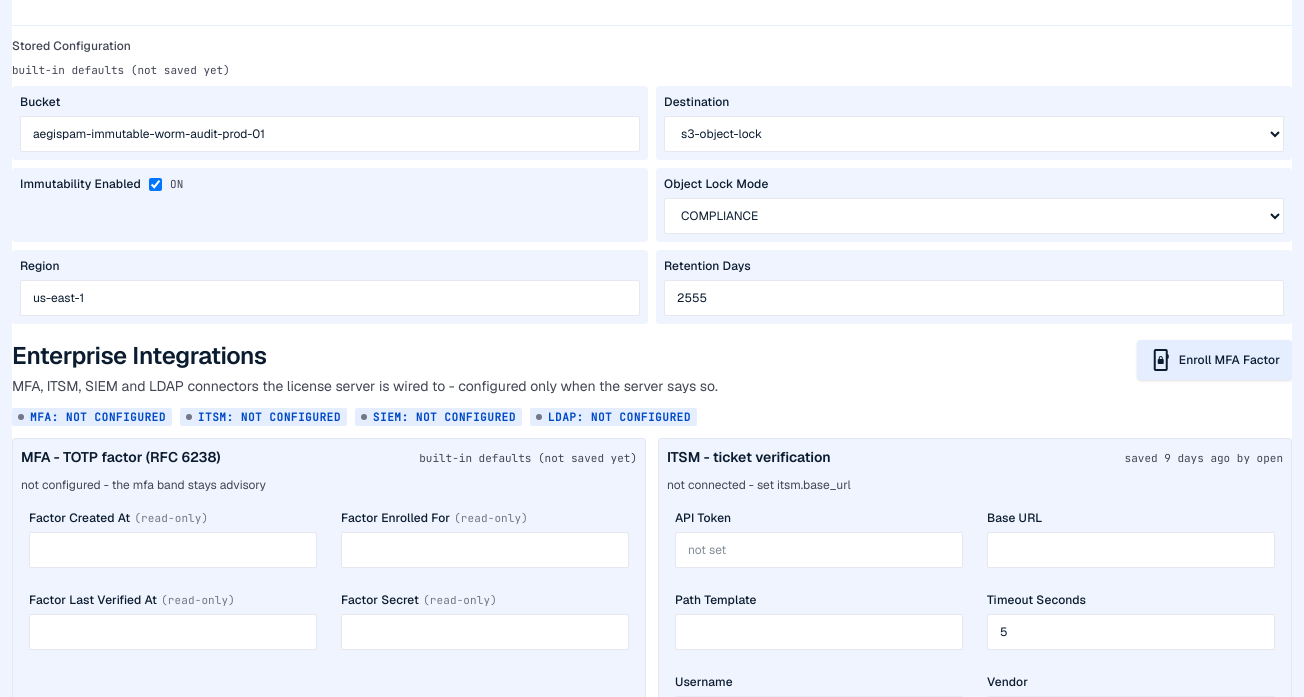
Test case: MFA enroll (screen 11, ADR-0015 11.4 - the legacy-wired action) › a no-token enroll renders the 401 line verbatim and mints nothing
(page scrolled)
Expected: the text "not connected - set itsm.base_url" is shown, [667,477,851,493]
Click the button "Enroll MFA Factor" at {"x": 1214, "y": 360}, box [1137,340,1292,380]
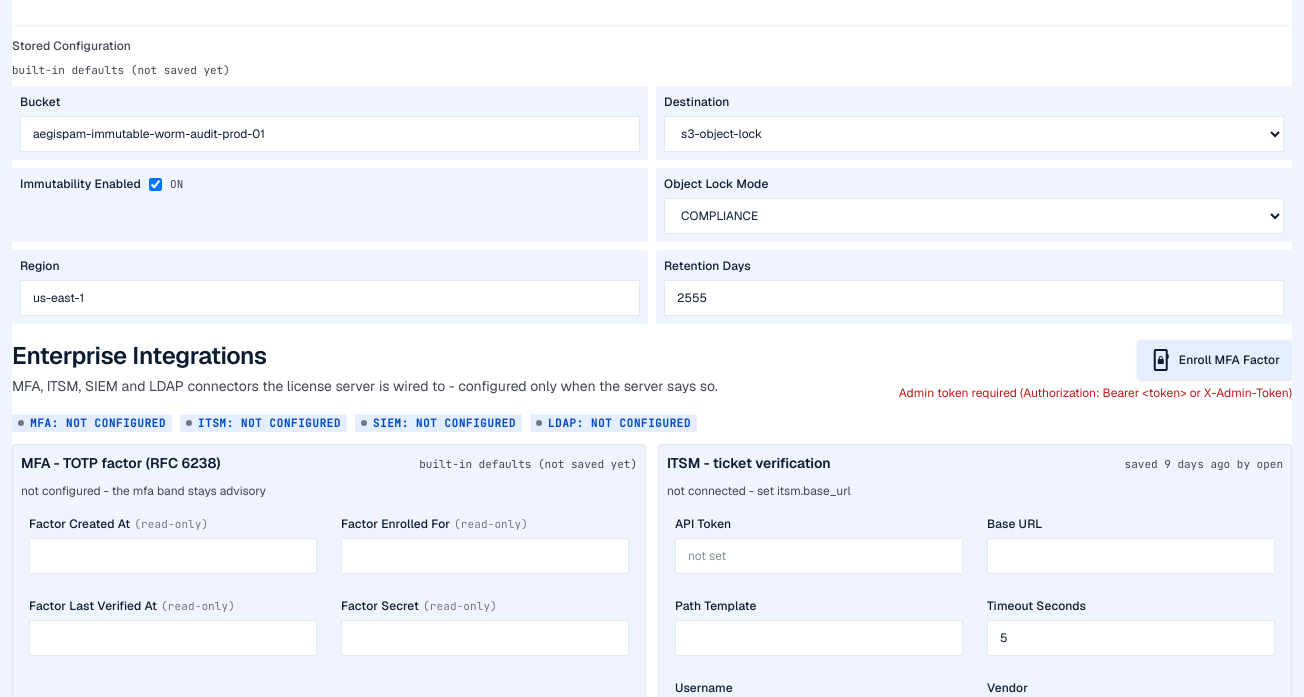
Expected: the text "Admin token required (Authorization: Bearer <token> or X-Admin-Token)" is shown, [899,384,1292,402]
